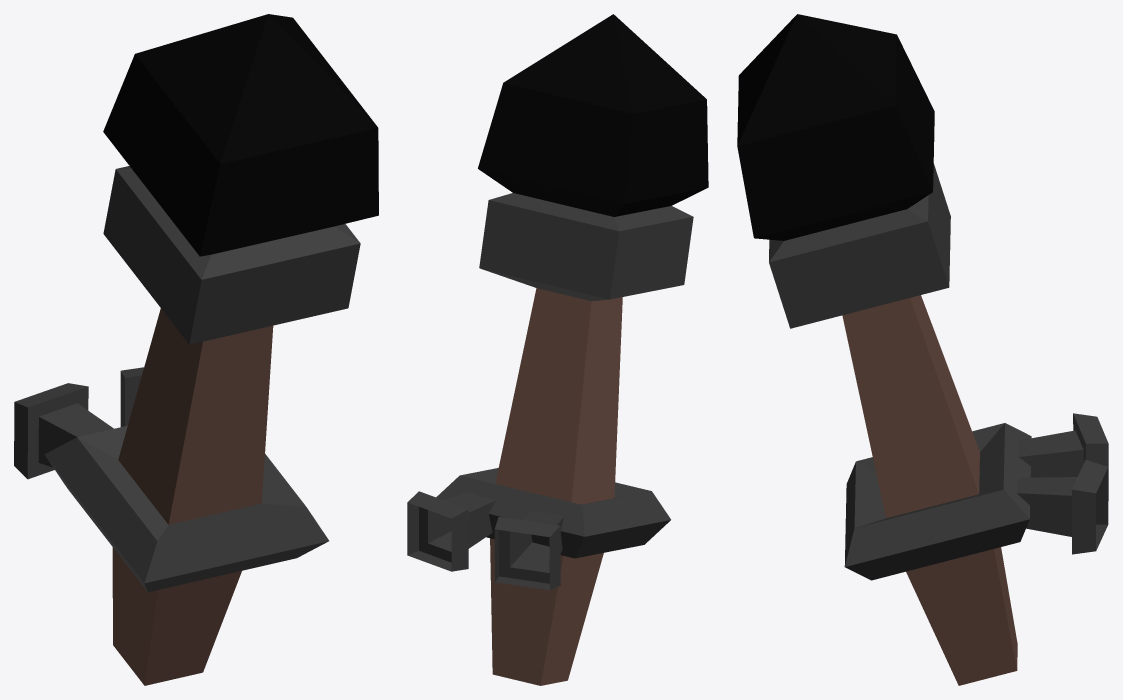
File: Props.fbx_Window.fbx_Torch.fbx
3 renders of one model, left to right at view 1: azimuth 30°, elevation 25°; view 2: azimuth 150°, elevation 25°; view 3: azimuth 270°, elevation 25°, orthographic. The views are drawn at different scales.
Parts seen in each view (by area): view 1: Main, Wall_Attach; view 2: Main, Wall_Attach; view 3: Main, Wall_Attach.
Boxes of the visible parts, box(x1,y1,x2,y2) form: Main: box(44, 14, 378, 685); Wall_Attach: box(14, 367, 143, 479); Main: box(436, 14, 708, 685); Wall_Attach: box(407, 491, 563, 590); Main: box(737, 14, 1031, 685); Wall_Attach: box(1016, 413, 1108, 554).
Size of the model in its own units: 0.2749 by 1.03 by 0.5236.
